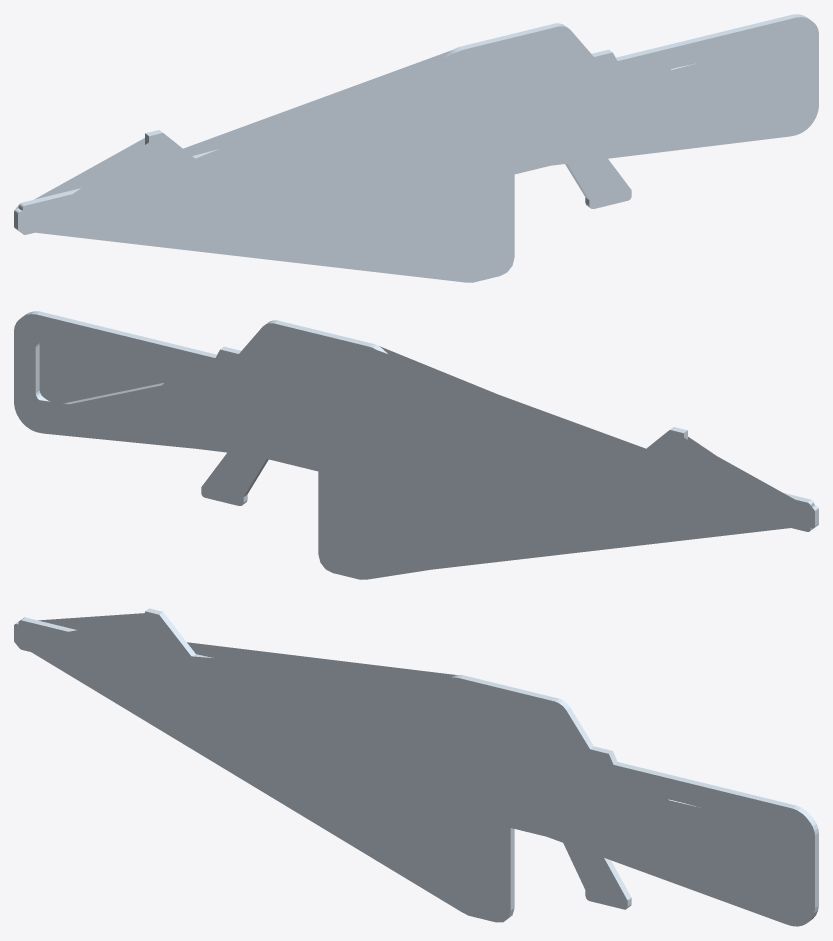
The model's file is Gun_3D_Icon_02.fbx.
3 renders of one model, top to bottom at view 1: azimuth 30°, elevation 25°; view 2: azimuth 150°, elevation 25°; view 3: azimuth 330°, elevation 25°, orthographic.
Parts seen in each view (by area): view 1: Gun_3D_Icon_02; view 2: Gun_3D_Icon_02; view 3: Gun_3D_Icon_02.
Boxes of the visible parts, <box> form: Gun_3D_Icon_02: <box>14,14,818,282</box>; Gun_3D_Icon_02: <box>14,311,818,579</box>; Gun_3D_Icon_02: <box>14,608,818,926</box>.
Bounding box in the file's own units: 231 × 64.8 × 2.
